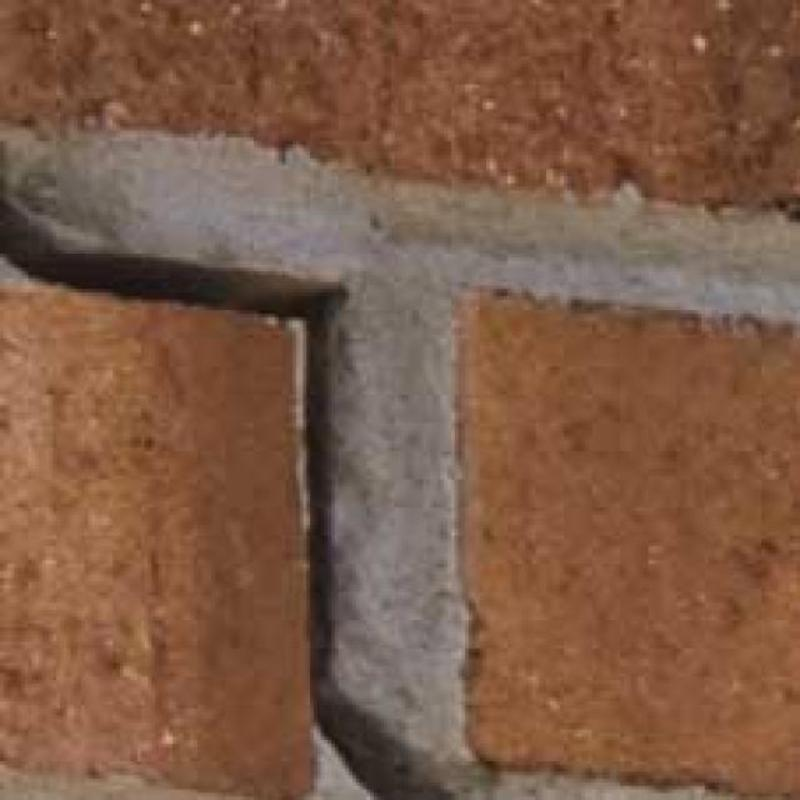crack: (0, 192, 456, 799)
